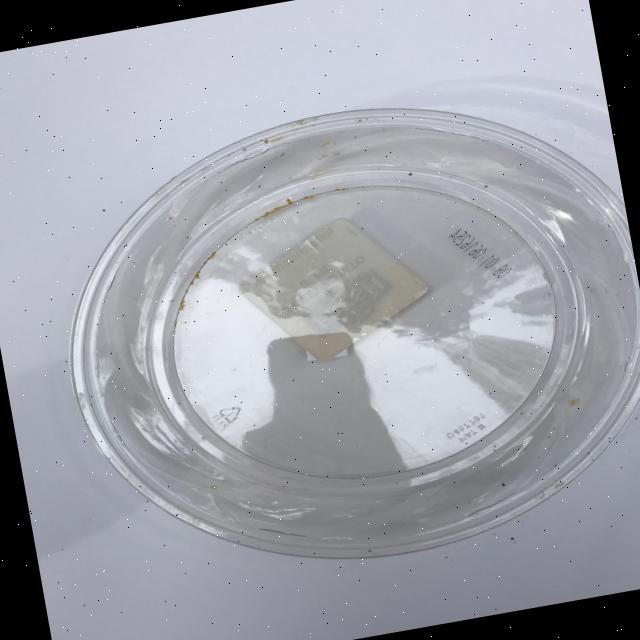plastic: (33, 63, 640, 604)
